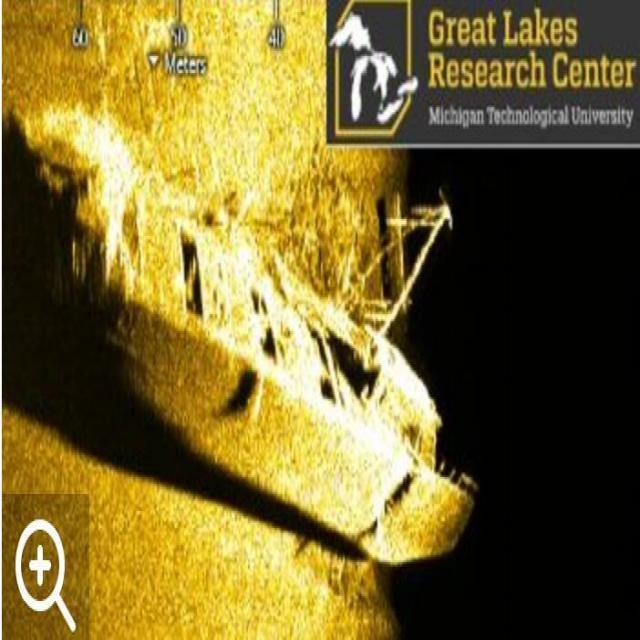shipwreck: (22, 104, 480, 566)
